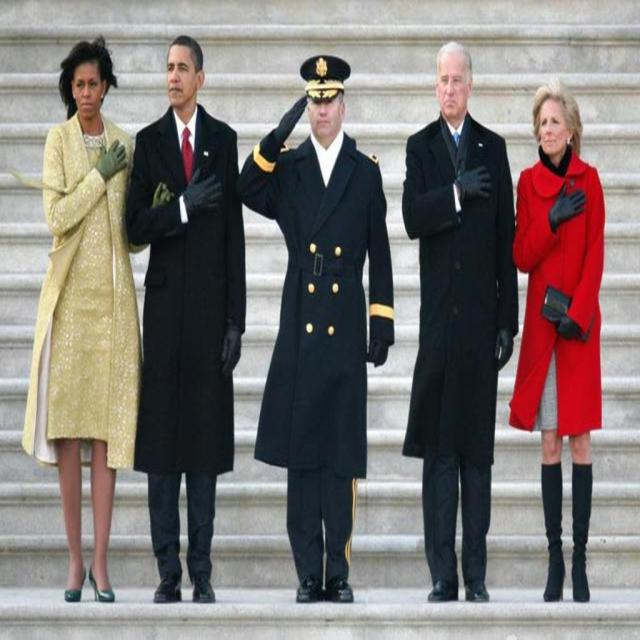Face: (157, 35, 207, 120), (529, 91, 579, 160), (62, 56, 107, 129), (436, 45, 476, 118), (306, 67, 342, 140)
